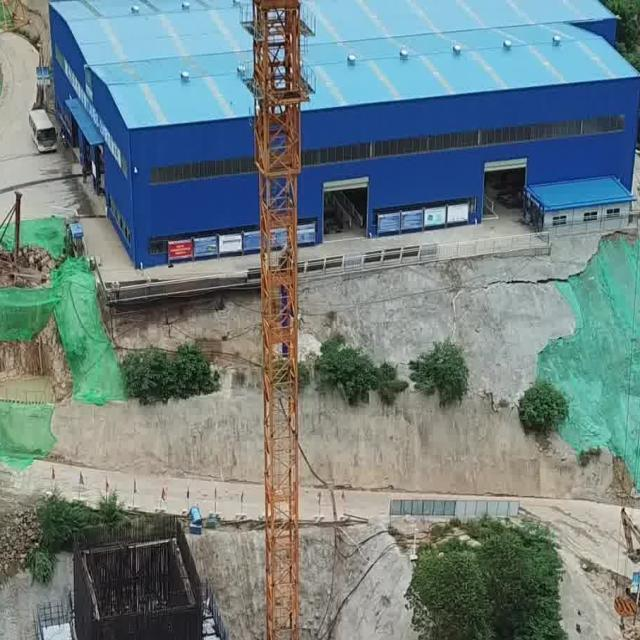crane: (236, 0, 317, 639)
excavator: (619, 505, 639, 604)
